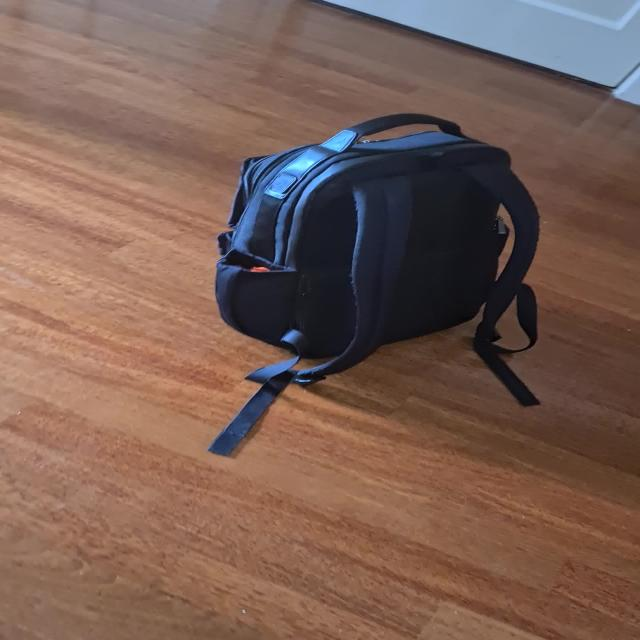backpack: (200, 101, 554, 379)
